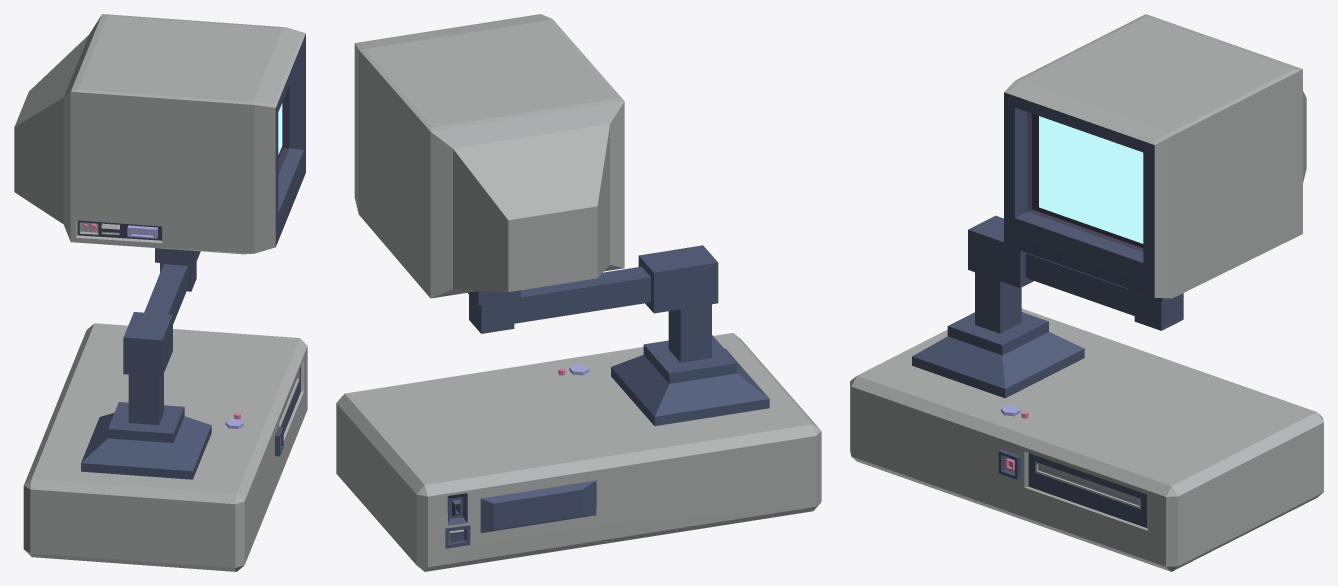
File: computer.glb
3 renders of one model, left to right at view 1: azimuth 30°, elevation 25°; view 2: azimuth 150°, elevation 25°; view 3: azimuth 270°, elevation 25°, orthographic. The views are drawn at different scales.
Visible parts, largest first — view 1: monitor 1, keyboard 1; view 2: monitor 1, keyboard 1; view 3: monitor 1, keyboard 1.
Boxes of the visible parts, <box> form: monitor 1: <box>14,14,305,479</box>; keyboard 1: <box>23,323,307,571</box>; monitor 1: <box>354,14,769,425</box>; keyboard 1: <box>336,333,821,571</box>; monitor 1: <box>912,14,1306,398</box>; keyboard 1: <box>850,308,1323,571</box>.
Size of the model in its own units: 9.28 by 9.79 by 9.77.
